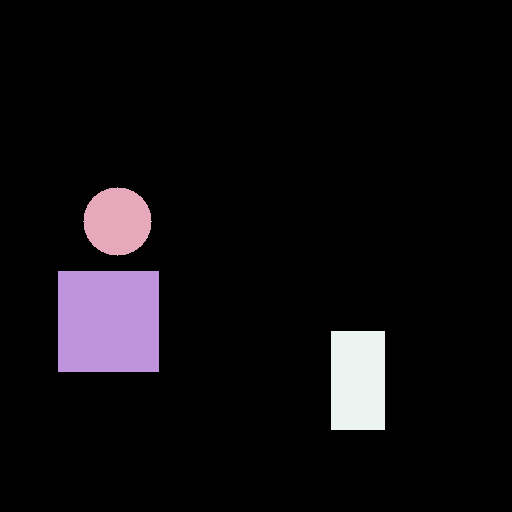circle: (83, 187, 151, 255)
rectangle: (331, 331, 384, 429)
square: (58, 271, 158, 371)
